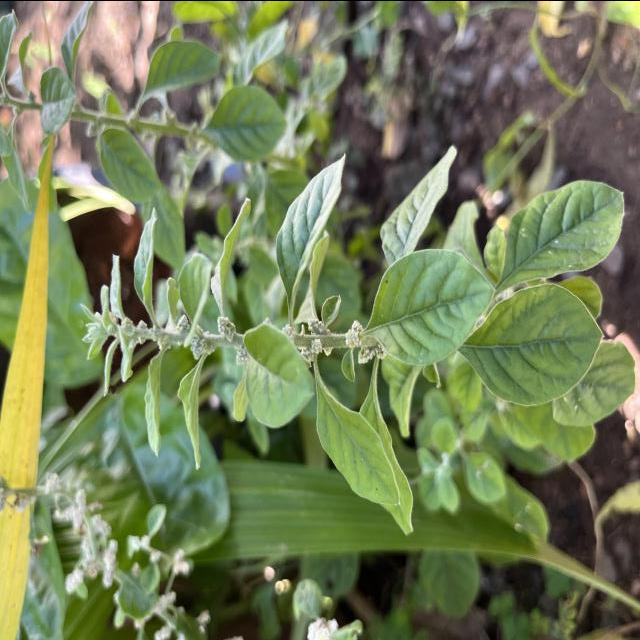Aerva lanata: (459, 280, 606, 409), (365, 245, 498, 368), (496, 175, 626, 288), (272, 148, 347, 306), (315, 379, 402, 506)
